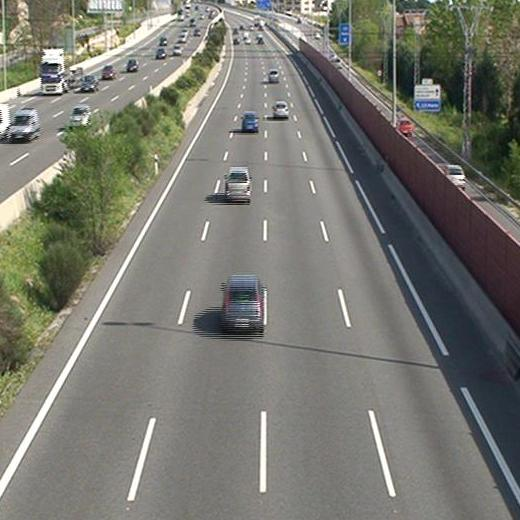car: (221, 274, 264, 330), (223, 167, 253, 200), (242, 111, 259, 132), (272, 102, 289, 118), (269, 68, 280, 84)
